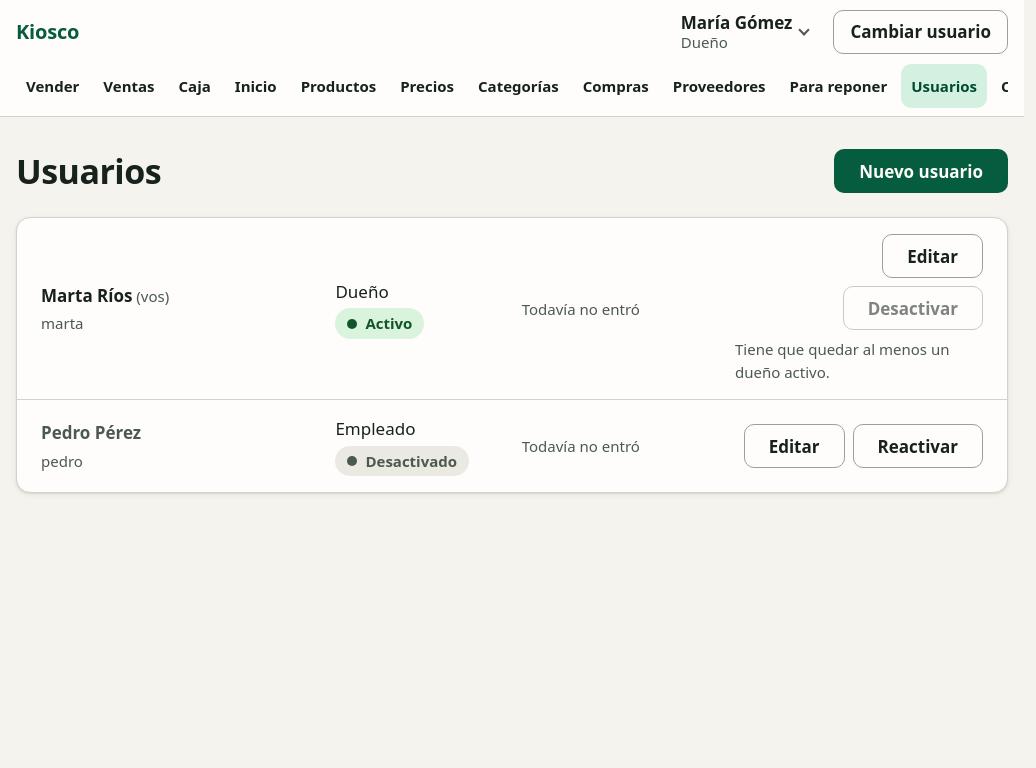
UsersPage: acciones desde afuera (H-20) › si la API responde LOCAL_ONLY, lo explica
Click the button with aria-label "Reactivar a Pedro Pérez" at (918, 446), box [852,424,983,468]
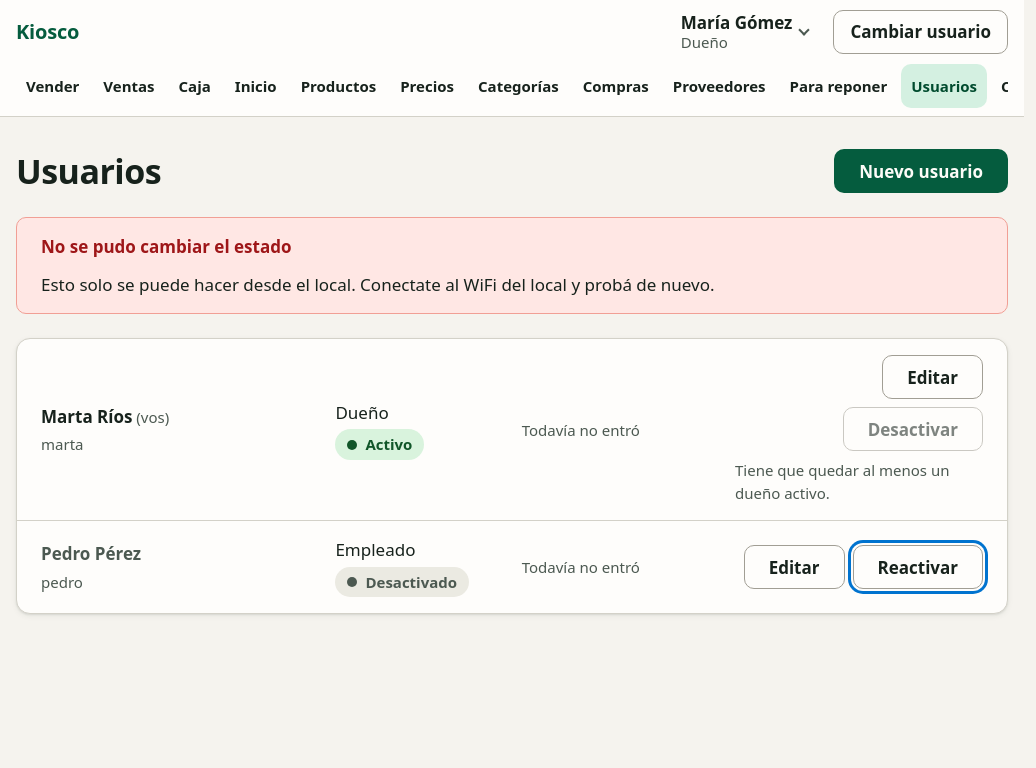
Expected: the message shows "solo se puede hacer desde el local", [41,273,714,296]
